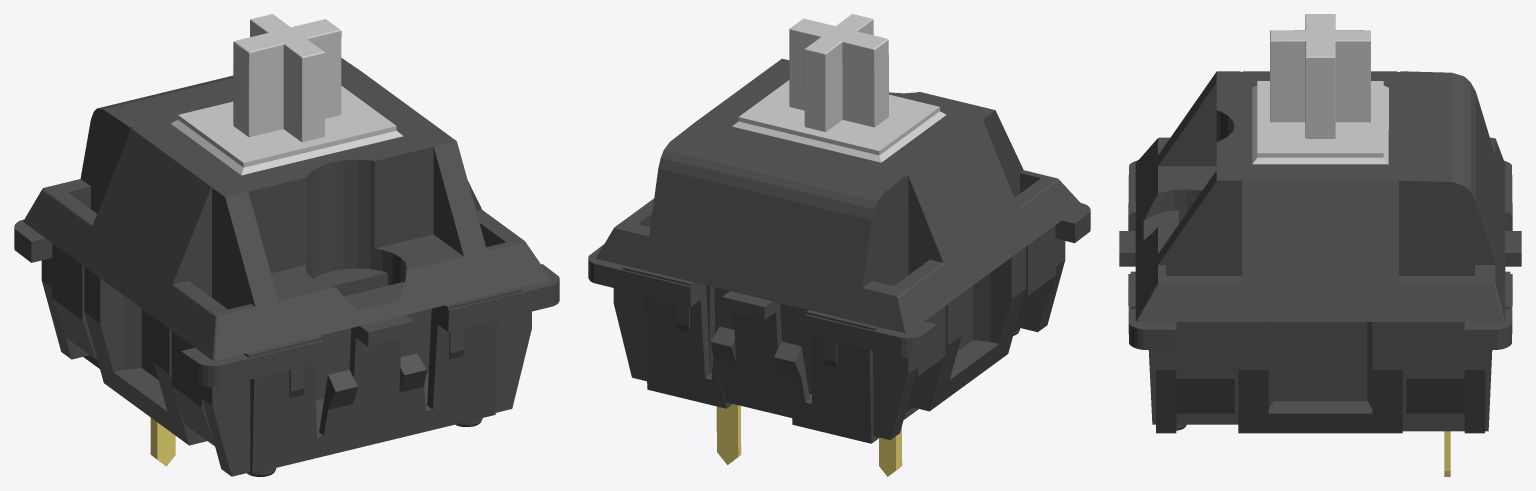
The model's file is MX_Switch_compressed.glb.
3 renders of one model, left to right at view 1: azimuth 30°, elevation 25°; view 2: azimuth 150°, elevation 25°; view 3: azimuth 270°, elevation 25°, orthographic. The views are drawn at different scales.
Parts seen in each view (by area): view 1: switch: 7-7; view 2: switch: 7-7; view 3: switch: 7-7.
Boxes of the visible parts, box(x1,y1,x2,y2) form: switch: 7-7: box(14, 14, 559, 476); switch: 7-7: box(588, 14, 1090, 476); switch: 7-7: box(1119, 14, 1521, 476).
Size of the model in its own units: 16 by 18.28 by 16.
